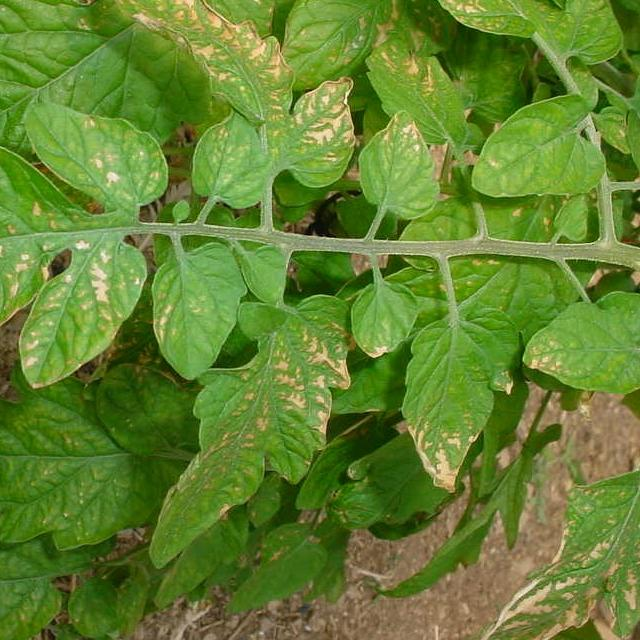Tomato leaf bacterial spot: (147, 255, 350, 571), (104, 0, 383, 215), (372, 299, 548, 521), (8, 225, 160, 406), (490, 250, 640, 429), (0, 124, 100, 375), (460, 59, 595, 214), (134, 233, 247, 381), (24, 106, 171, 215), (356, 113, 448, 246), (344, 267, 427, 366)
